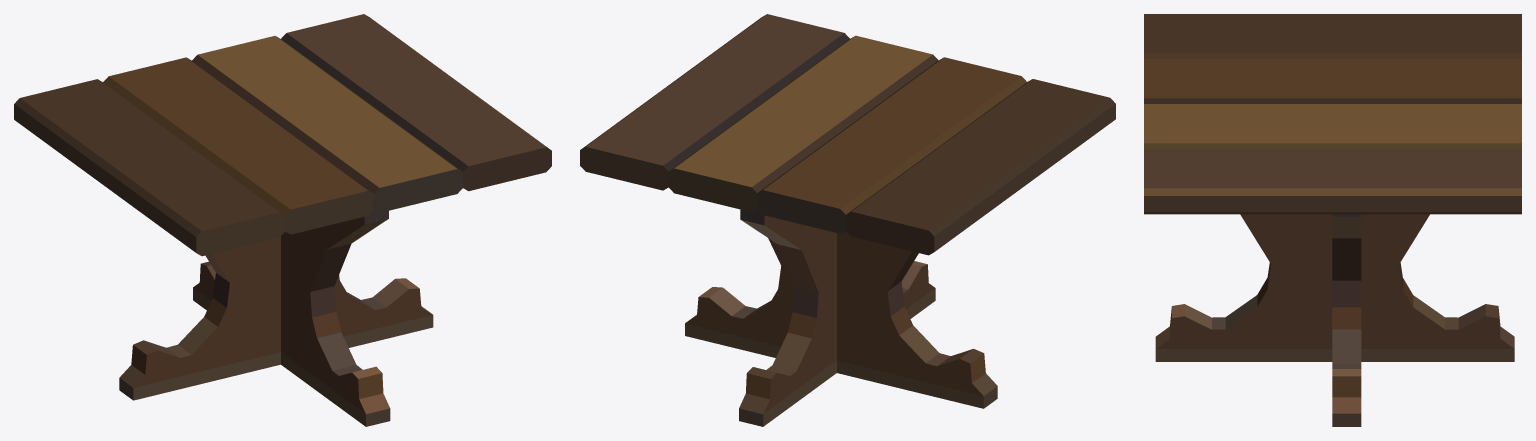
The model's file is Furniture_TableAShort.fbx.
3 views of the same model, side by side, from view 1: azimuth 30°, elevation 25°; view 2: azimuth 150°, elevation 25°; view 3: azimuth 270°, elevation 25° (orthographic). The views are drawn at different scales.
Parts seen in each view (by area): view 1: Furniture_TableAShort; view 2: Furniture_TableAShort; view 3: Furniture_TableAShort.
Boxes of the visible parts, <box> form: Furniture_TableAShort: <box>14,14,551,426</box>; Furniture_TableAShort: <box>580,14,1115,426</box>; Furniture_TableAShort: <box>1144,14,1521,426</box>.
Size of the model in its own units: 146 by 94.92 by 130.
